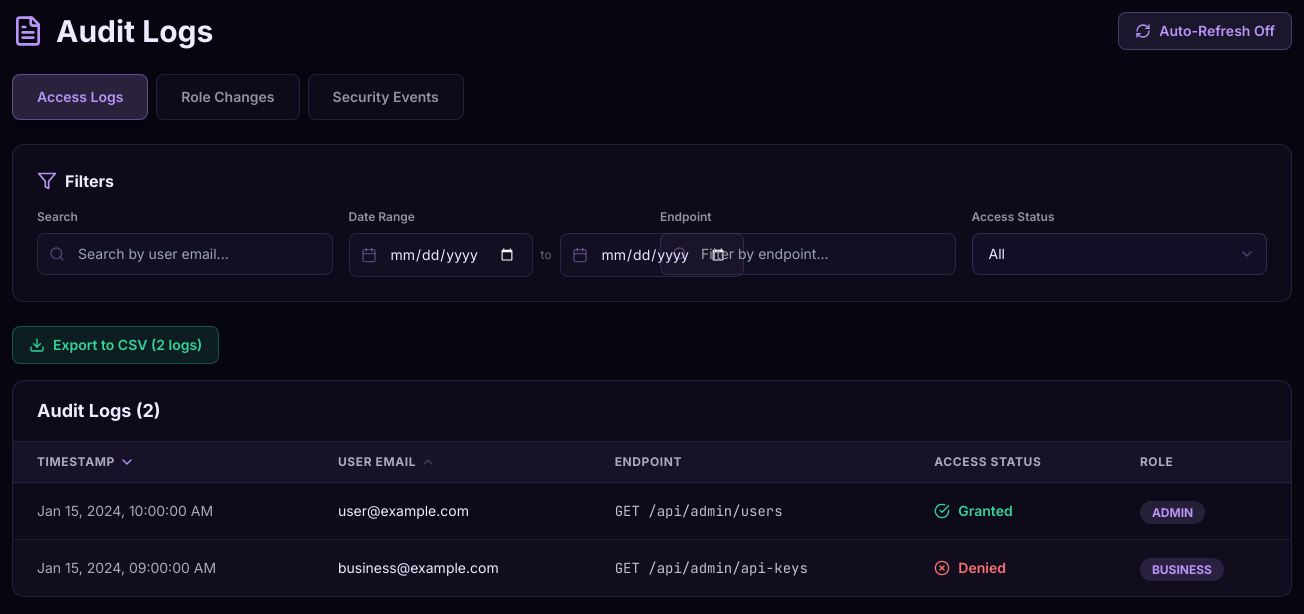
Test: AuditLogs › should switch to security events tab and fetch security events
Note: Click security events tab
Click the button "Security Events": (386, 97) [308,74,464,120]
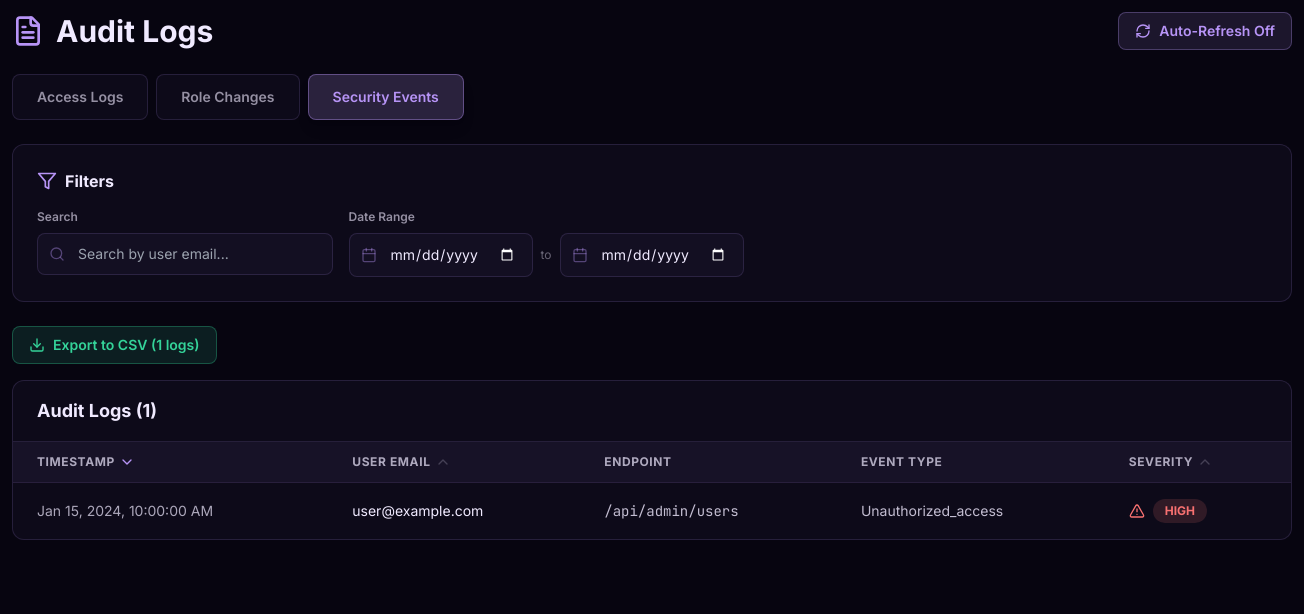
Result: the text "unauthorized_access" is shown at [837,482,1105,539]
